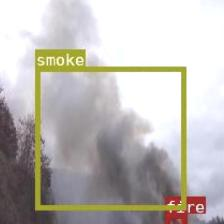fire: (164, 213, 186, 224)
smoke: (34, 66, 184, 209)
